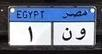noon: (61, 27, 73, 41), (27, 25, 35, 42)
waw: (75, 28, 87, 42)
